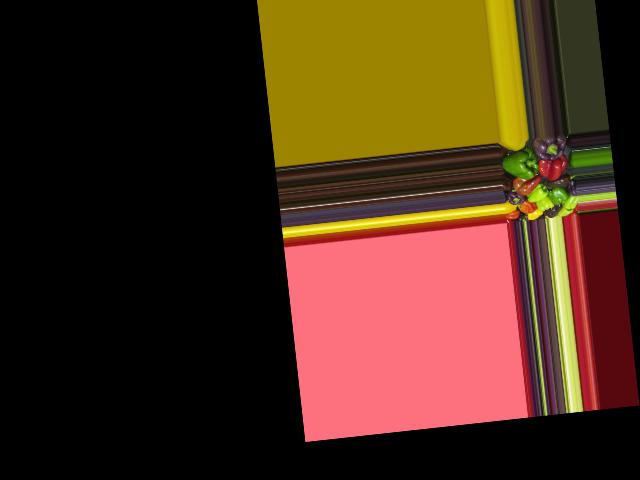bell_pepper: (505, 189, 526, 208)
